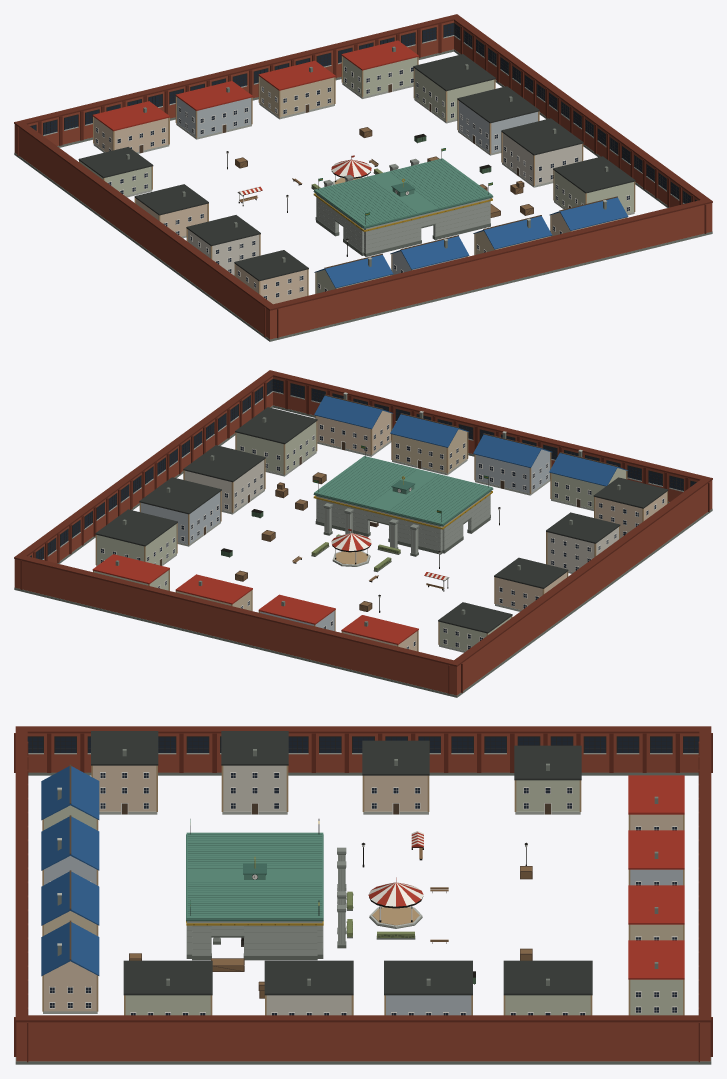
File: moeda.glb
3 views of the same model, one above another, from view 1: azimuth 30°, elevation 25°; view 2: azimuth 150°, elevation 25°; view 3: azimuth 270°, elevation 25° (orthographic). The views are drawn at different scales.
Parts seen in each view (by area): view 1: map_brick.005, map_brick_d.005, map_roof_slate.009, map_copper.001, map_wall_1.007, map_glass.011, map_roof_red.011, map_roof_blue.008, map_wall_4.005, map_granite.001, map_wall_3.006, map_trim.010 (+11 smaller); view 2: map_brick.005, map_brick_d.005, map_roof_slate.009, map_copper.001, map_wall_1.007, map_roof_red.011, map_roof_blue.008, map_glass.011, map_wall_4.005, map_granite.001, map_wall_3.006, map_trim.010 (+11 smaller); view 3: map_brick.005, map_roof_slate.009, map_brick_d.005, map_copper.001, map_roof_red.011, map_roof_blue.008, map_wall_4.005, map_wall_1.007, map_glass.011, map_copper_d.001, map_stone_dark.012, map_granite.001 (+11 smaller).
Part boxes in pixels (x1,y1,x2,y2): map_brick.005: (14,20,712,339); map_brick_d.005: (14,14,712,338); map_roof_slate.009: (78,54,635,281); map_copper.001: (314,158,492,227); map_wall_1.007: (80,57,633,293); map_glass.011: (31,23,695,299); map_roof_red.011: (92,40,418,194); map_roof_blue.008: (314,197,628,288); map_wall_4.005: (94,117,625,304); map_granite.001: (316,163,490,253); map_wall_3.006: (177,97,537,274); map_trim.010: (95,66,630,299); map_brick.005: (14,376,712,695); map_brick_d.005: (14,370,712,694); map_roof_slate.009: (95,407,668,633); map_copper.001: (314,456,492,525); map_wall_1.007: (94,422,625,650); map_roof_red.011: (92,529,445,644); map_roof_blue.008: (314,395,628,486); map_glass.011: (31,379,695,649); map_wall_4.005: (316,410,666,651); map_granite.001: (316,491,490,554); map_wall_3.006: (141,449,549,630); map_trim.010: (100,424,664,649); map_brick.005: (16,733,710,1061); map_roof_slate.009: (91,731,592,995); map_brick_d.005: (14,726,712,1062); map_copper.001: (186,832,323,919); map_roof_red.011: (368,775,684,979); map_roof_blue.008: (41,766,99,976); map_wall_4.005: (44,765,682,1011); map_wall_1.007: (44,780,682,1015); map_glass.011: (27,737,699,1015); map_copper_d.001: (186,834,323,921); map_stone_dark.012: (15,749,711,1064); map_granite.001: (187,855,345,955).
Bounding box in the file's own units: 129 × 12.43 × 129.
